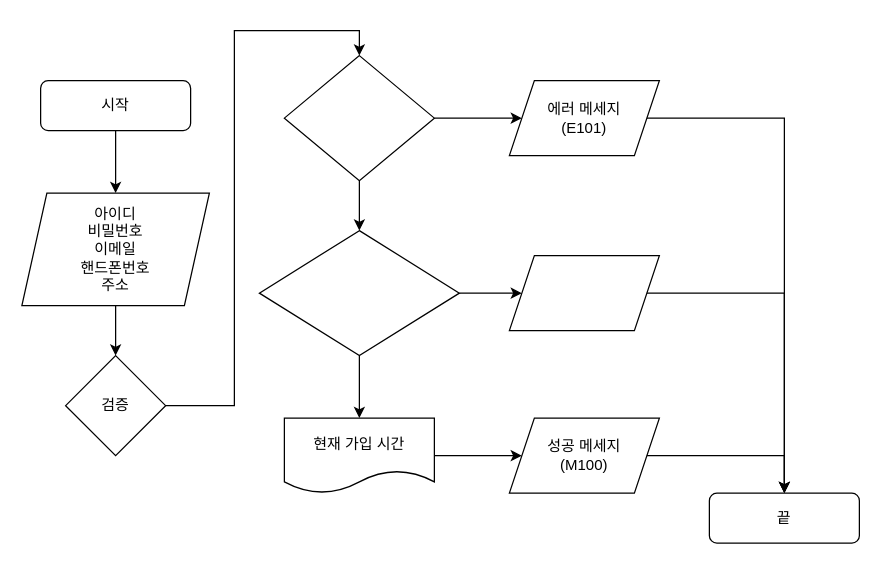
The diagram is 881 pixels wide and 565 high, and some of its shapes have lost their labels. The shapes that lost their labels are listed below. From the top down, each one's centre as x and y in pixels, then its label:
At [358,117]: "비밀번호 확인".
At [358,292]: "이메일 인증번호 확인".
At [583,292]: "에러 메세지 (E102)".
